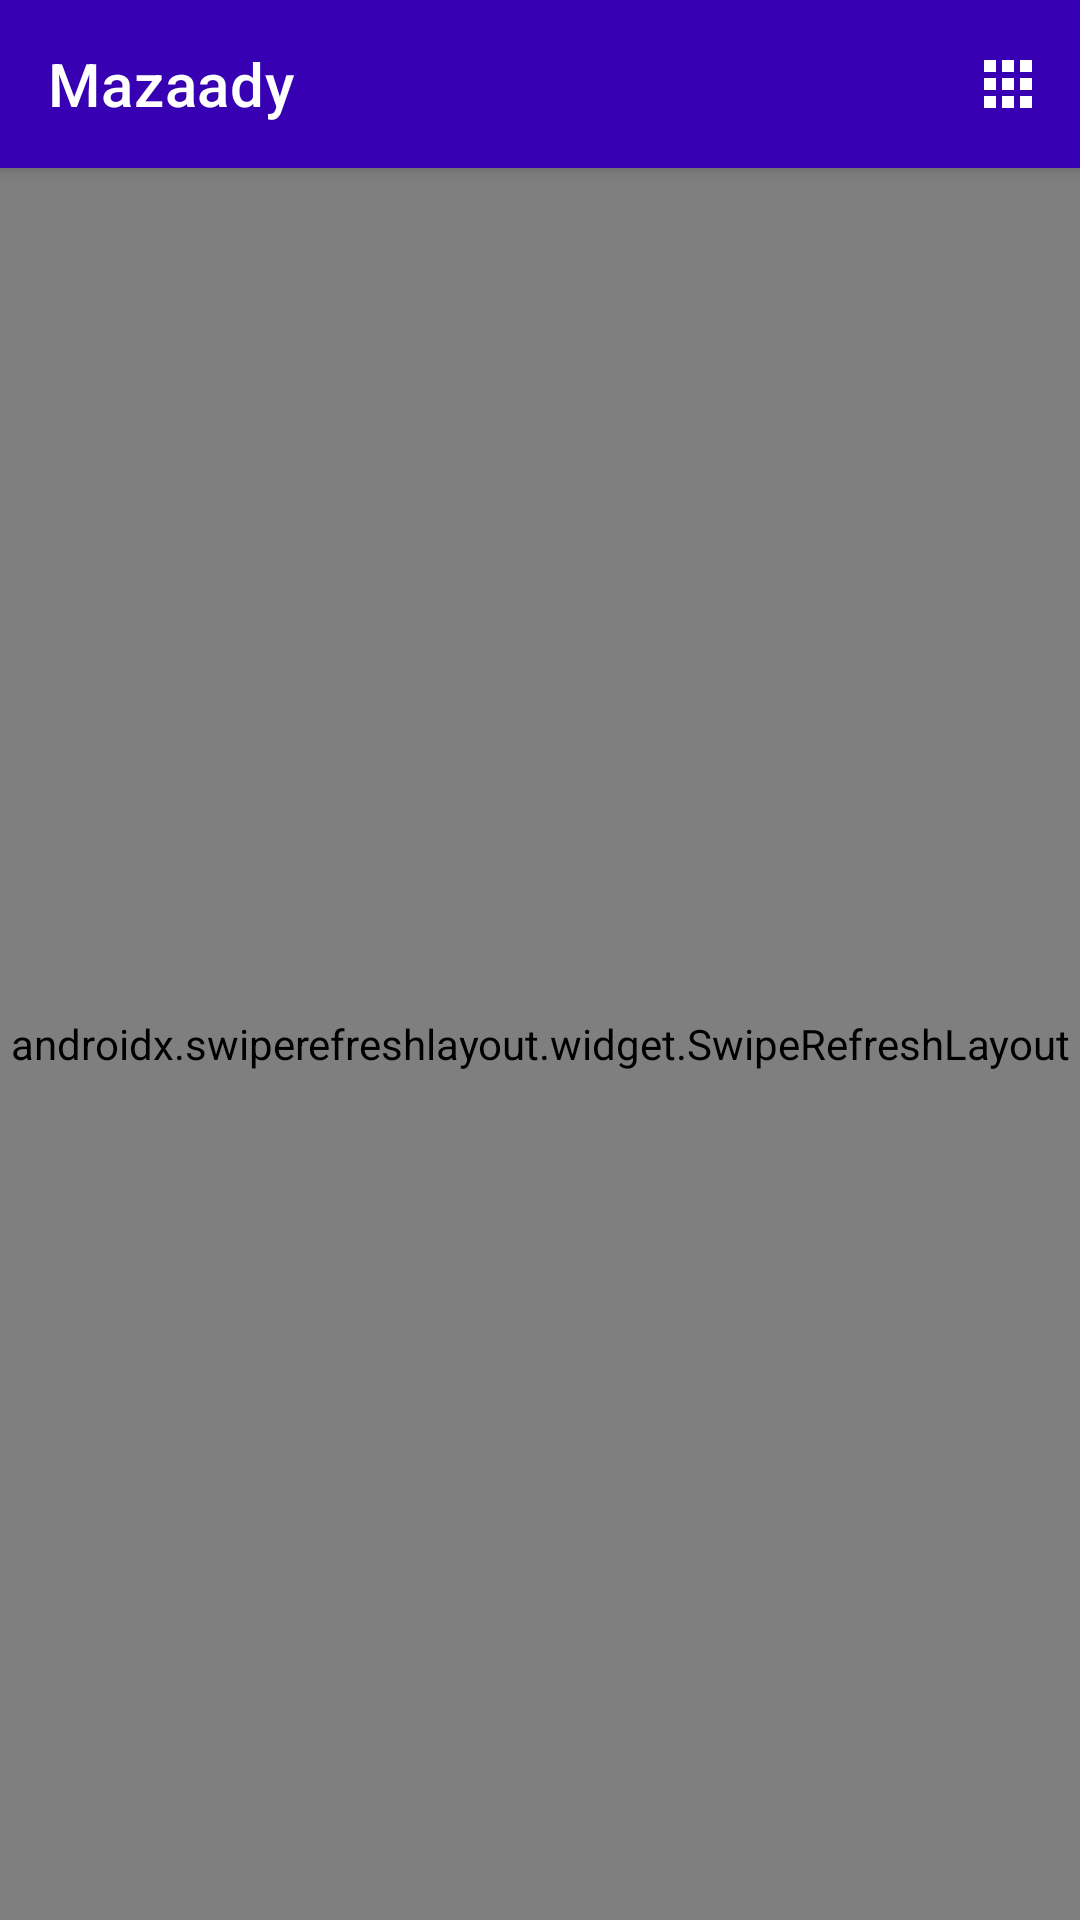

Icons on this 1080px×1920px Android screen, each with its box as (x1, y1, x2, y2):
Toggle Layout: (984, 60, 1032, 108)
